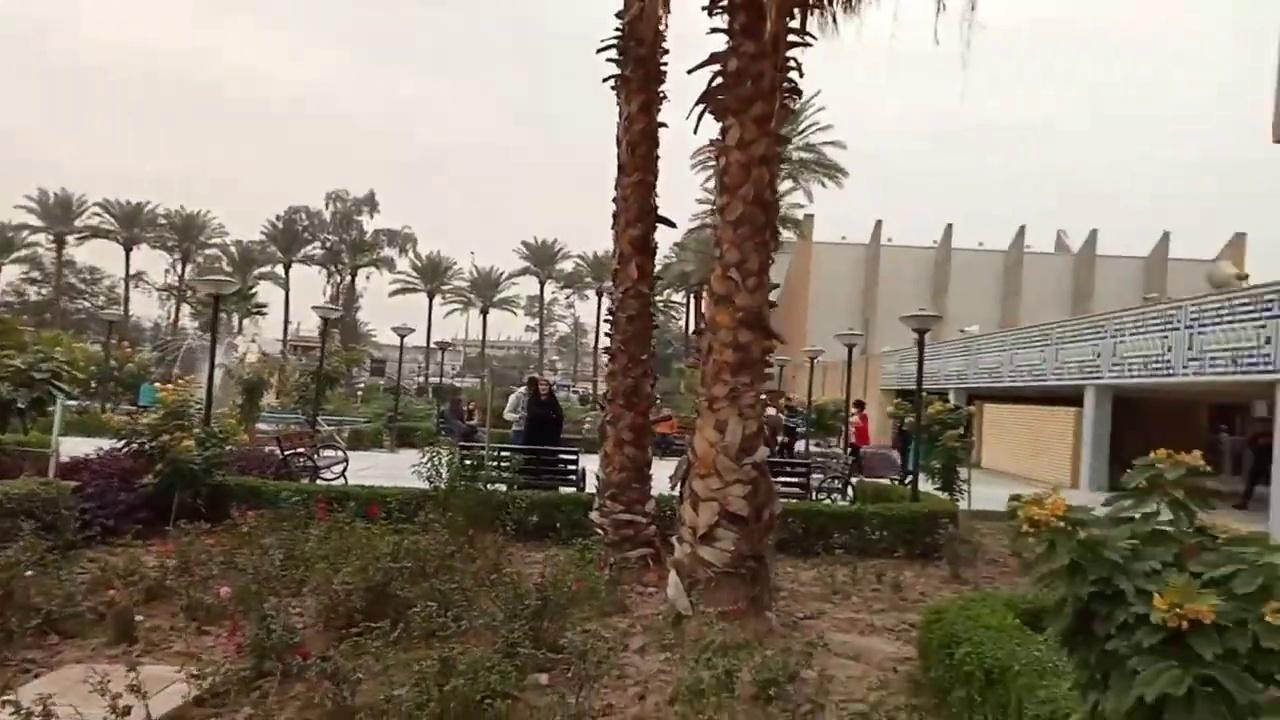person: (520, 376, 564, 483), (1231, 414, 1273, 510), (437, 388, 486, 446), (501, 375, 538, 444), (846, 399, 870, 476)
tree: (593, 0, 977, 631), (663, 83, 849, 622), (1006, 447, 1279, 718), (591, 0, 677, 581), (687, 87, 849, 249), (300, 187, 415, 405), (207, 237, 283, 421), (76, 195, 164, 344), (12, 184, 93, 329), (387, 248, 464, 396), (149, 203, 228, 335), (255, 209, 321, 355), (506, 235, 572, 377), (185, 257, 237, 427), (656, 224, 717, 365), (564, 249, 615, 407), (460, 261, 520, 390), (213, 237, 274, 336), (556, 267, 591, 382), (439, 276, 476, 374), (0, 216, 34, 296)
